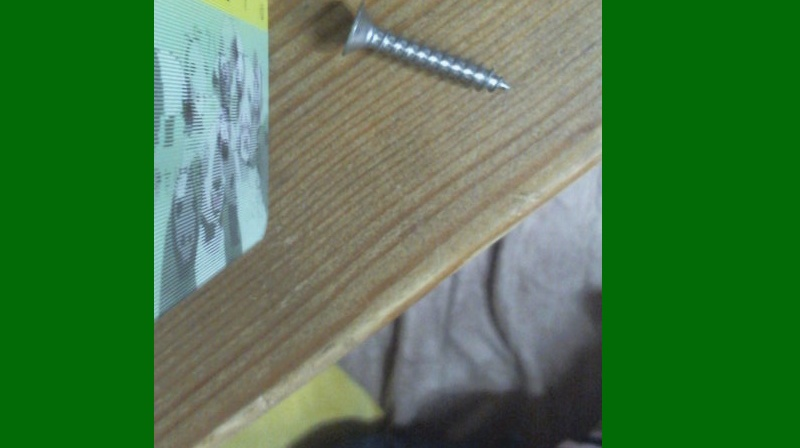S001: (339, 0, 512, 99)
